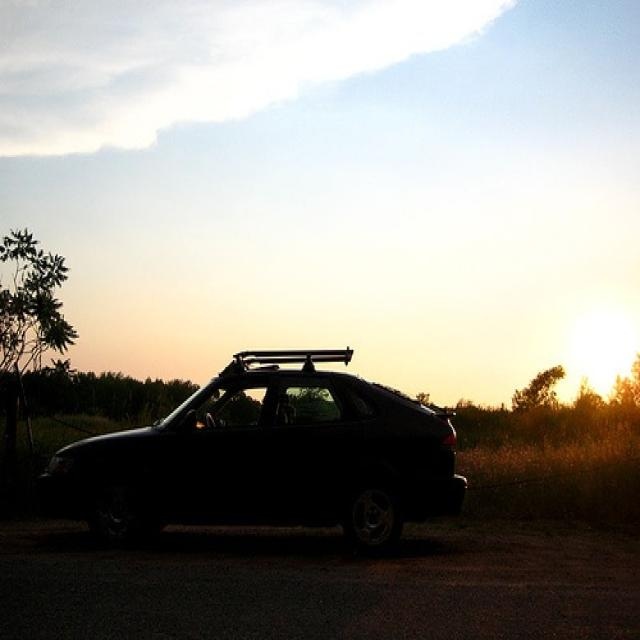Car: (36, 354, 466, 568)
